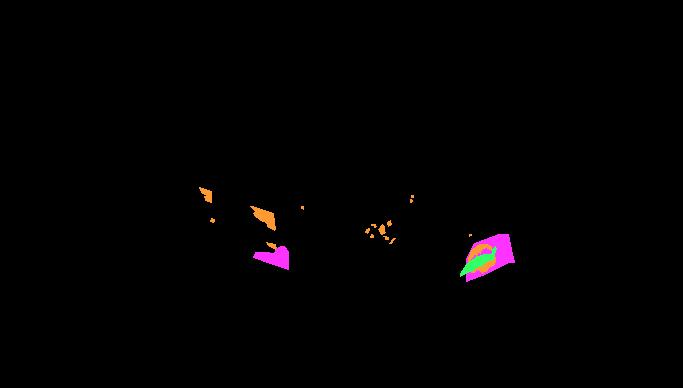Broken part: (460, 246, 496, 276)
Dent: (466, 234, 514, 281), (253, 246, 288, 269)
Paint chip: (250, 206, 275, 230), (468, 244, 492, 262), (471, 256, 495, 273), (199, 187, 211, 202), (266, 242, 276, 249), (378, 224, 385, 234), (387, 220, 391, 226), (273, 260, 278, 264), (365, 228, 369, 233), (210, 218, 214, 222), (391, 238, 395, 242), (371, 224, 376, 227), (383, 236, 388, 239), (370, 234, 373, 237), (410, 199, 412, 202), (301, 206, 303, 209), (411, 195, 413, 197), (469, 234, 471, 236), (389, 242, 391, 243)
